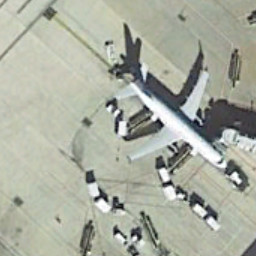Airplane: (86, 35, 238, 173)
